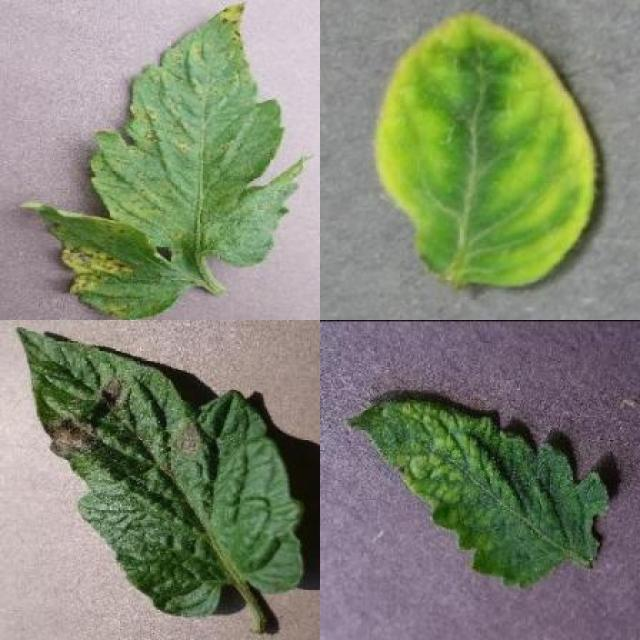Late Blight: (18, 324, 308, 616)
Mosaic Virus: (347, 397, 610, 590)
Septoria: (18, 0, 315, 320)
Yellow Leaf Curl Virus: (374, 9, 600, 287)
